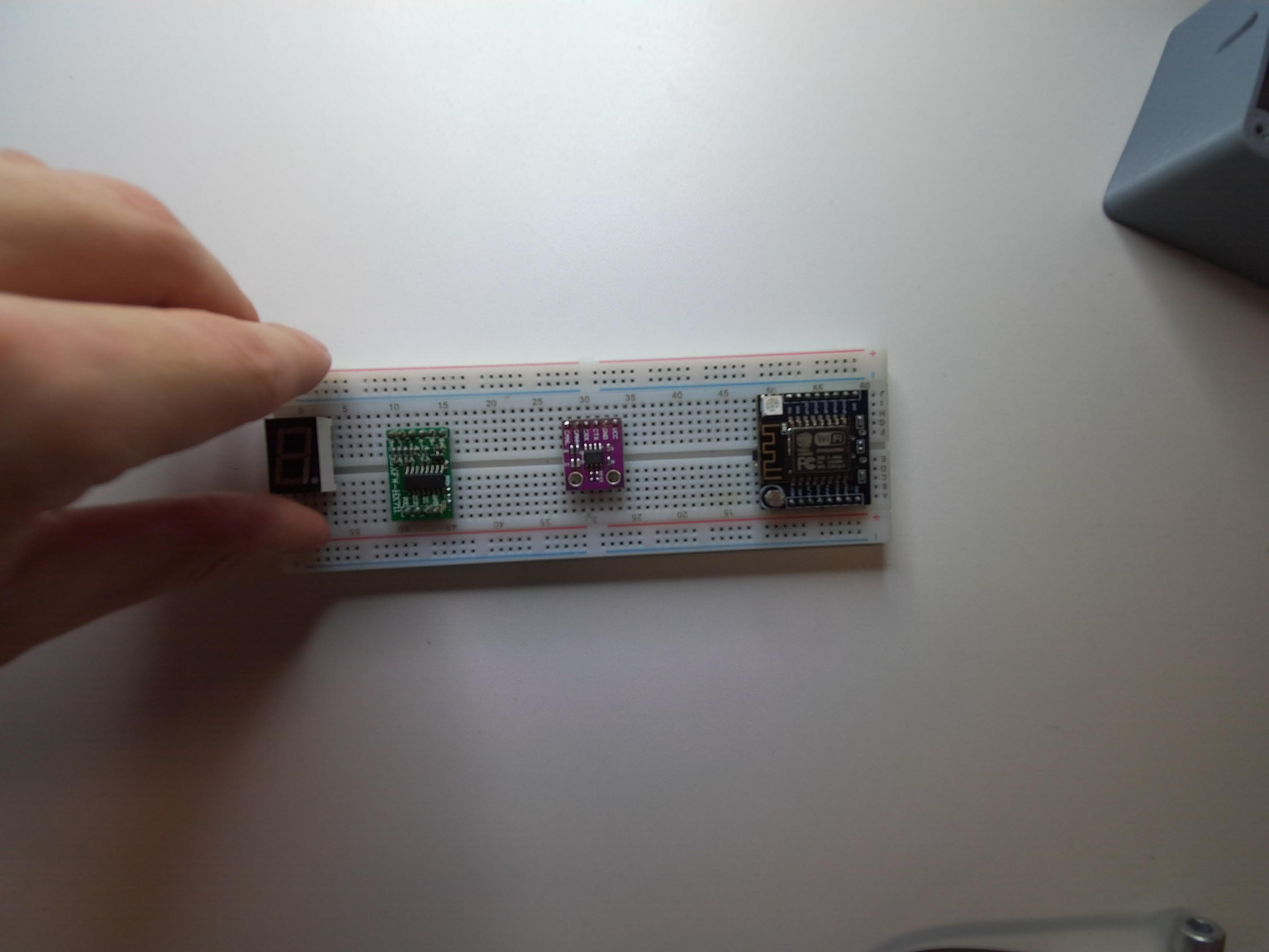base: (296, 353, 896, 578)
digit-board: (259, 419, 337, 502)
esp: (756, 389, 876, 515)
green-board: (383, 423, 455, 523)
purple-board: (560, 414, 627, 503)
